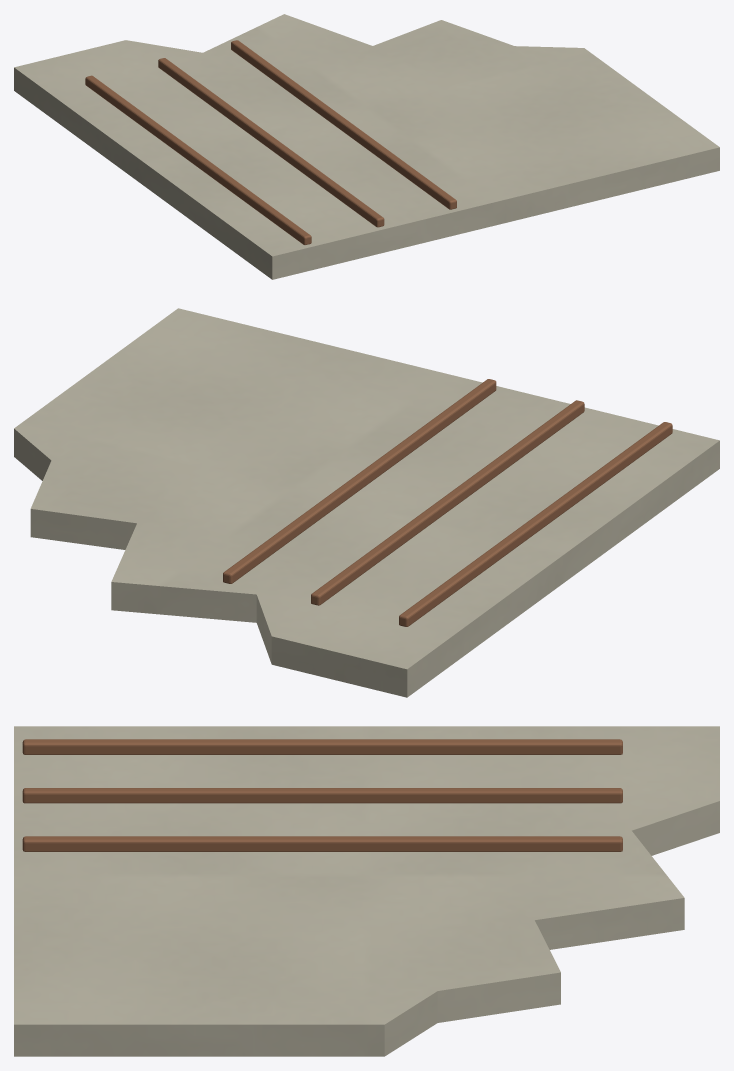
File: Roof_Fractured_4m.glb
The picture shows the model from 3 angles, top to bottom: view 1: azimuth 30°, elevation 25°; view 2: azimuth 150°, elevation 25°; view 3: azimuth 270°, elevation 25°; orthographic projection. The views are drawn at different scales.
Visible parts, largest first — view 1: Roof_Fractured_4m; view 2: Roof_Fractured_4m; view 3: Roof_Fractured_4m.
Part boxes in pixels (bbox=[...]): Roof_Fractured_4m: bbox=[14, 14, 719, 279]; Roof_Fractured_4m: bbox=[14, 308, 719, 697]; Roof_Fractured_4m: bbox=[14, 726, 719, 1056].
Size of the model in its own units: 4 by 0.27 by 4.
Materials: 2 (2 with a texture image).
